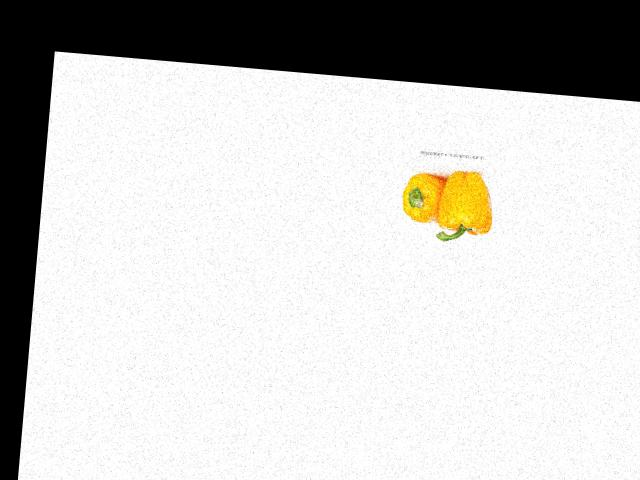bell_pepper: (399, 169, 449, 228)
